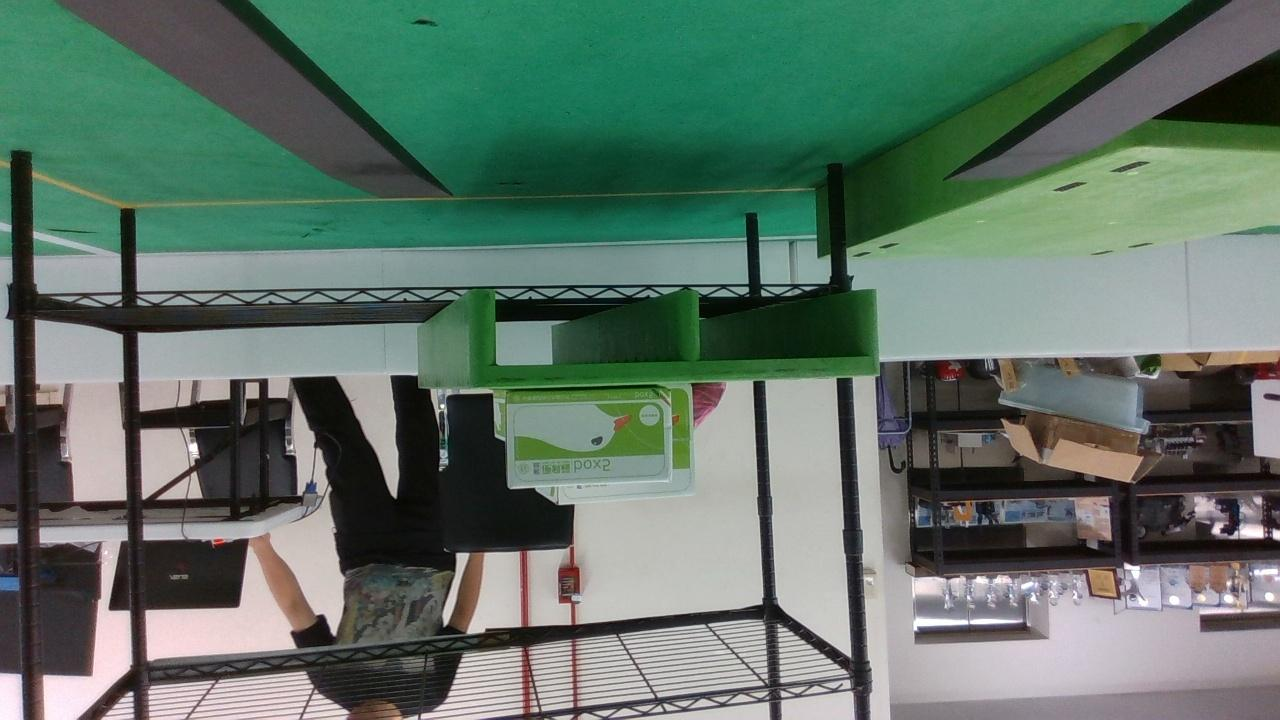Pallet: (466, 282, 884, 391)
